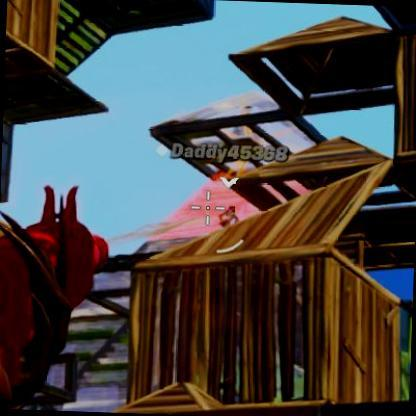person: (222, 207, 237, 226)
